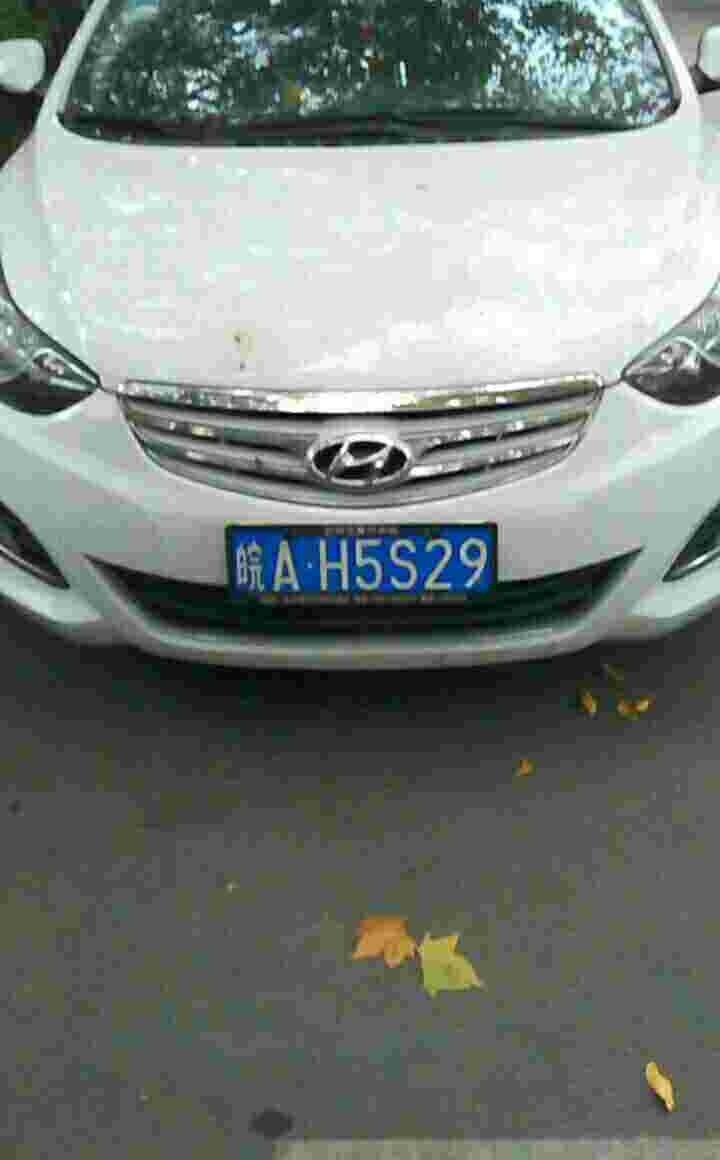plate: (230, 521, 502, 608)
